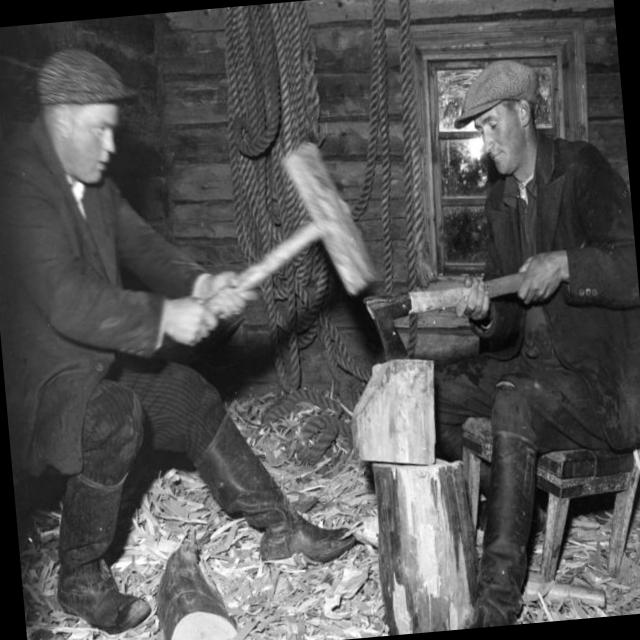Axe: (365, 285, 471, 358), (483, 273, 523, 297)
